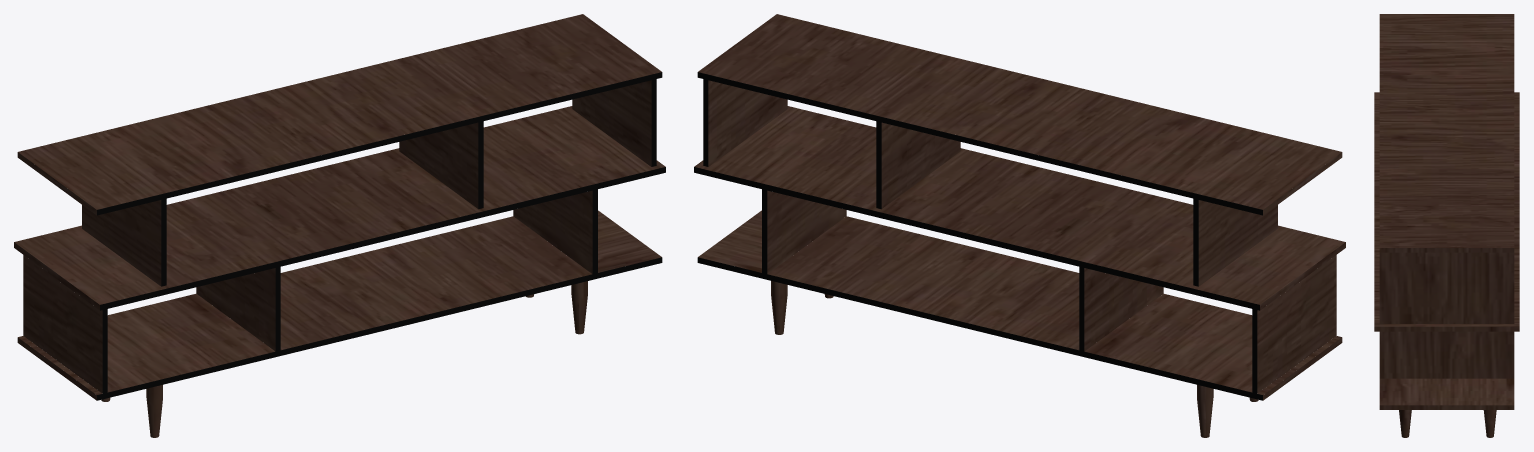
Rendered from mini-biblioteca.aab541c01a.glb.
3 renders of one model, left to right at view 1: azimuth 30°, elevation 25°; view 2: azimuth 150°, elevation 25°; view 3: azimuth 270°, elevation 25°, orthographic. The views are drawn at different scales.
Parts seen in each view (by area): view 1: S_tvstand_A_EHH_01_tvstand2_0, S_tvstand_A_EHH_01_tvstand4_0, S_tvstand_A_EHH_01_tvstand5_0; view 2: S_tvstand_A_EHH_01_tvstand2_0, S_tvstand_A_EHH_01_tvstand4_0, S_tvstand_A_EHH_01_tvstand3_0; view 3: S_tvstand_A_EHH_01_tvstand2_0, S_tvstand_A_EHH_01_tvstand1_0, S_tvstand_A_EHH_01_tvstand4_0.
Part boxes in pixels (box(x1,y1,x2,y2)): S_tvstand_A_EHH_01_tvstand2_0: box(14, 14, 665, 394); S_tvstand_A_EHH_01_tvstand4_0: box(14, 80, 651, 437); S_tvstand_A_EHH_01_tvstand5_0: box(97, 72, 665, 400); S_tvstand_A_EHH_01_tvstand2_0: box(694, 14, 1345, 394); S_tvstand_A_EHH_01_tvstand4_0: box(708, 80, 1345, 437); S_tvstand_A_EHH_01_tvstand3_0: box(694, 72, 1262, 400); S_tvstand_A_EHH_01_tvstand2_0: box(1374, 14, 1519, 405); S_tvstand_A_EHH_01_tvstand1_0: box(1374, 248, 1519, 409); S_tvstand_A_EHH_01_tvstand4_0: box(1399, 410, 1496, 437).
Bounding box in the file's own units: 1.42 × 0.6104 × 0.3725.
Materials: 6 (3 with a texture image).
